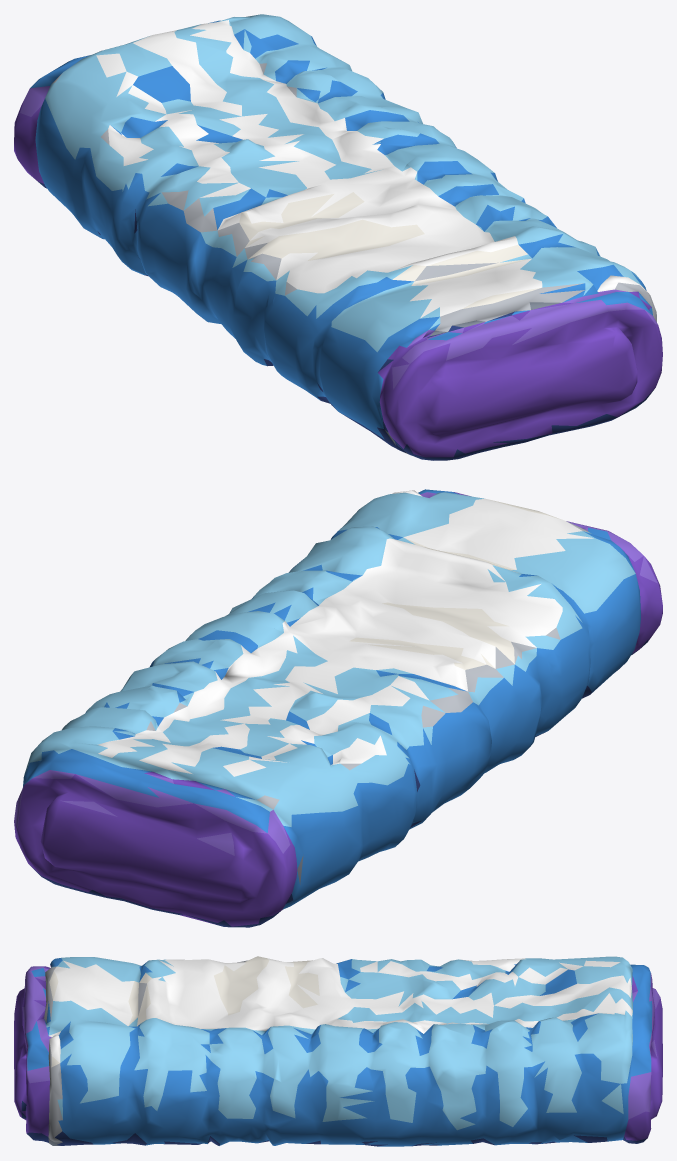
The model's file is SM_futon_rolled.fbx.
The picture shows the model from 3 angles, top to bottom: view 1: azimuth 30°, elevation 25°; view 2: azimuth 150°, elevation 25°; view 3: azimuth 270°, elevation 25°; orthographic projection. The views are drawn at different scales.
Parts seen in each view (by area): view 1: SM_futon_rolled; view 2: SM_futon_rolled; view 3: SM_futon_rolled.
Boxes of the visible parts, x1,y1,x2,y2 form: SM_futon_rolled: (14,14,662,460); SM_futon_rolled: (14,489,662,927); SM_futon_rolled: (14,956,662,1146).
Size of the model in its own units: 63.41 by 30 by 142.
Materials: 1 (1 with a texture image).
